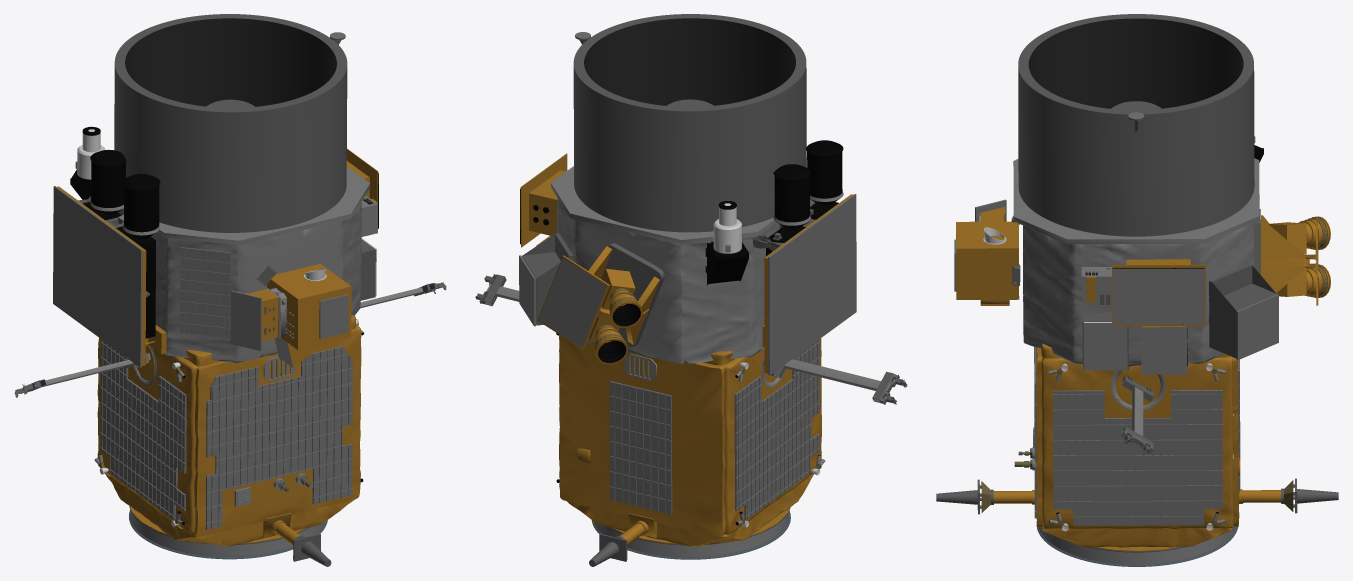
Rendered from Base_satelite.obj.
3 renders of one model, left to right at view 1: azimuth 30°, elevation 25°; view 2: azimuth 150°, elevation 25°; view 3: azimuth 270°, elevation 25°, orthographic.
Parts seen in each view (by area): view 1: Base_satelite_cal_mirrors, Base_satelite_cal_tele_out, Base_satelite_cal_silver, Base_satelite_cal_tele_in, Base_satelite_cal_gold, Base_satelite_cal_gold_2, Base_satelite_cal_black, Base_satelite_cal_grey, Base_satelite_cal_gold_1, Base_satelite_cal_white, Base_satelite_cal_ring; view 2: Base_satelite_cal_mirrors, Base_satelite_cal_tele_out, Base_satelite_cal_silver, Base_satelite_cal_gold_2, Base_satelite_cal_tele_in, Base_satelite_cal_gold, Base_satelite_cal_black, Base_satelite_cal_grey, Base_satelite_cal_gold_1, Base_satelite_cal_white, Base_satelite_cal_ring; view 3: Base_satelite_cal_tele_out, Base_satelite_cal_silver, Base_satelite_cal_mirrors, Base_satelite_cal_gold, Base_satelite_cal_tele_in, Base_satelite_cal_gold_1, Base_satelite_cal_grey, Base_satelite_cal_gold_2, Base_satelite_cal_bronze, Base_satelite_cal_ring, Base_satelite_cal_white.
Boxes of the visible parts, x1=… form: Base_satelite_cal_mirrors: x1=53, y1=32, x2=352, y2=529; Base_satelite_cal_tele_out: x1=114, y1=14, x2=347, y2=232; Base_satelite_cal_silver: x1=30, y1=161, x2=423, y2=556; Base_satelite_cal_tele_in: x1=125, y1=18, x2=336, y2=106; Base_satelite_cal_gold: x1=97, y1=161, x2=369, y2=546; Base_satelite_cal_gold_2: x1=97, y1=328, x2=361, y2=536; Base_satelite_cal_black: x1=70, y1=126, x2=378, y2=525; Base_satelite_cal_grey: x1=14, y1=36, x2=446, y2=566; Base_satelite_cal_gold_1: x1=57, y1=148, x2=378, y2=545; Base_satelite_cal_white: x1=77, y1=129, x2=376, y2=527; Base_satelite_cal_ring: x1=129, y1=506, x2=327, y2=559; Base_satelite_cal_mirrors: x1=519, y1=32, x2=856, y2=520; Base_satelite_cal_tele_out: x1=573, y1=14, x2=806, y2=232; Base_satelite_cal_silver: x1=486, y1=158, x2=890, y2=556; Base_satelite_cal_gold_2: x1=559, y1=334, x2=821, y2=536; Base_satelite_cal_tele_in: x1=584, y1=18, x2=795, y2=105; Base_satelite_cal_gold: x1=529, y1=170, x2=821, y2=546; Base_satelite_cal_black: x1=520, y1=140, x2=843, y2=525; Base_satelite_cal_grey: x1=475, y1=35, x2=907, y2=566; Base_satelite_cal_gold_1: x1=520, y1=153, x2=852, y2=545; Base_satelite_cal_white: x1=713, y1=203, x2=819, y2=527; Base_satelite_cal_ring: x1=591, y1=508, x2=790, y2=559; Base_satelite_cal_tele_out: x1=1018, y1=14, x2=1254, y2=236; Base_satelite_cal_silver: x1=1013, y1=136, x2=1275, y2=564; Base_satelite_cal_mirrors: x1=954, y1=112, x2=1318, y2=525; Base_satelite_cal_gold: x1=956, y1=207, x2=1242, y2=551; Base_satelite_cal_tele_in: x1=1028, y1=18, x2=1243, y2=108; Base_satelite_cal_gold_1: x1=993, y1=215, x2=1330, y2=504; Base_satelite_cal_grey: x1=936, y1=116, x2=1338, y2=514; Base_satelite_cal_gold_2: x1=1036, y1=347, x2=1239, y2=527; Base_satelite_cal_bronze: x1=981, y1=217, x2=1327, y2=526; Base_satelite_cal_ring: x1=1036, y1=521, x2=1237, y2=566; Base_satelite_cal_white: x1=979, y1=214, x2=1213, y2=531.
Size of the model in its own units: 23.51 by 24.22 by 19.1.
